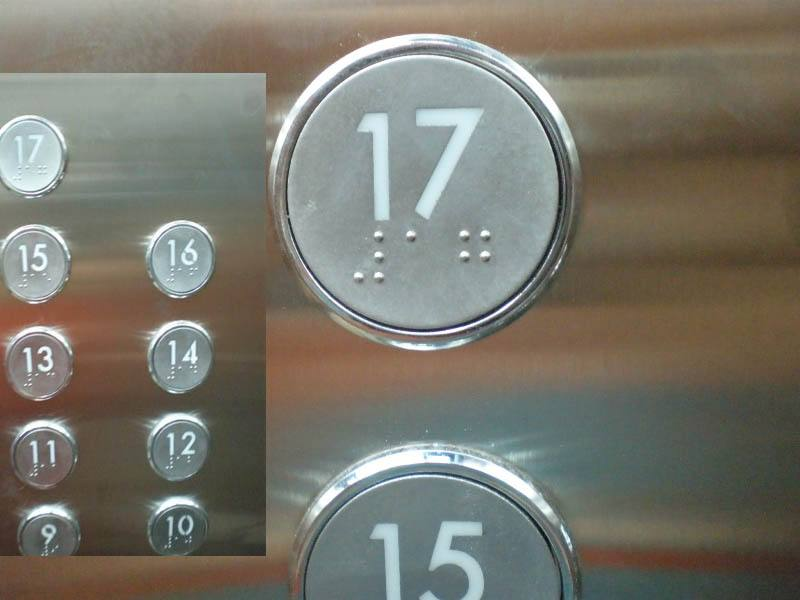Braille: (457, 230, 493, 288), (403, 230, 437, 286), (353, 231, 385, 285), (189, 268, 199, 283), (42, 273, 52, 288), (13, 166, 23, 180), (18, 274, 28, 288), (23, 373, 33, 387), (34, 373, 44, 387), (46, 373, 56, 387), (25, 166, 34, 181), (38, 166, 47, 181), (30, 273, 39, 288), (51, 464, 60, 478), (178, 366, 187, 380), (178, 268, 186, 283), (176, 457, 185, 470), (167, 366, 176, 379), (167, 268, 175, 282), (187, 455, 195, 469), (174, 537, 183, 549), (165, 457, 174, 469), (40, 464, 48, 477), (184, 536, 192, 549), (189, 366, 197, 379), (30, 465, 38, 477), (51, 545, 59, 557), (164, 537, 172, 549), (40, 546, 48, 557)
